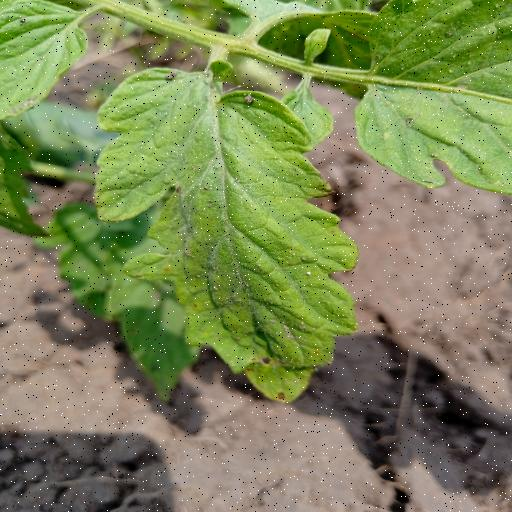Tomato_Mildiou: (92, 69, 358, 404)
